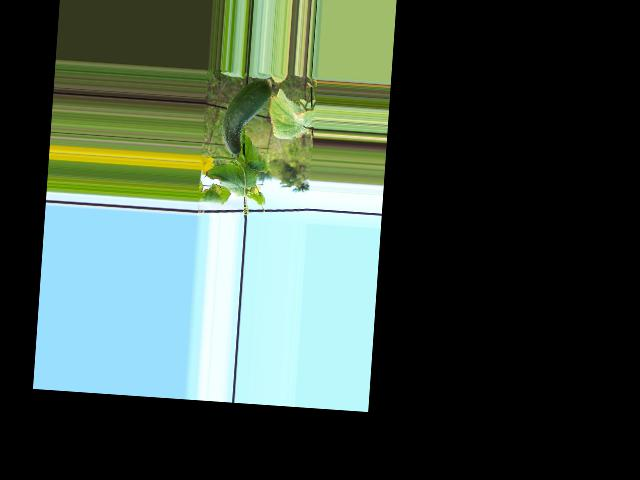cucumber: (220, 78, 272, 158)
